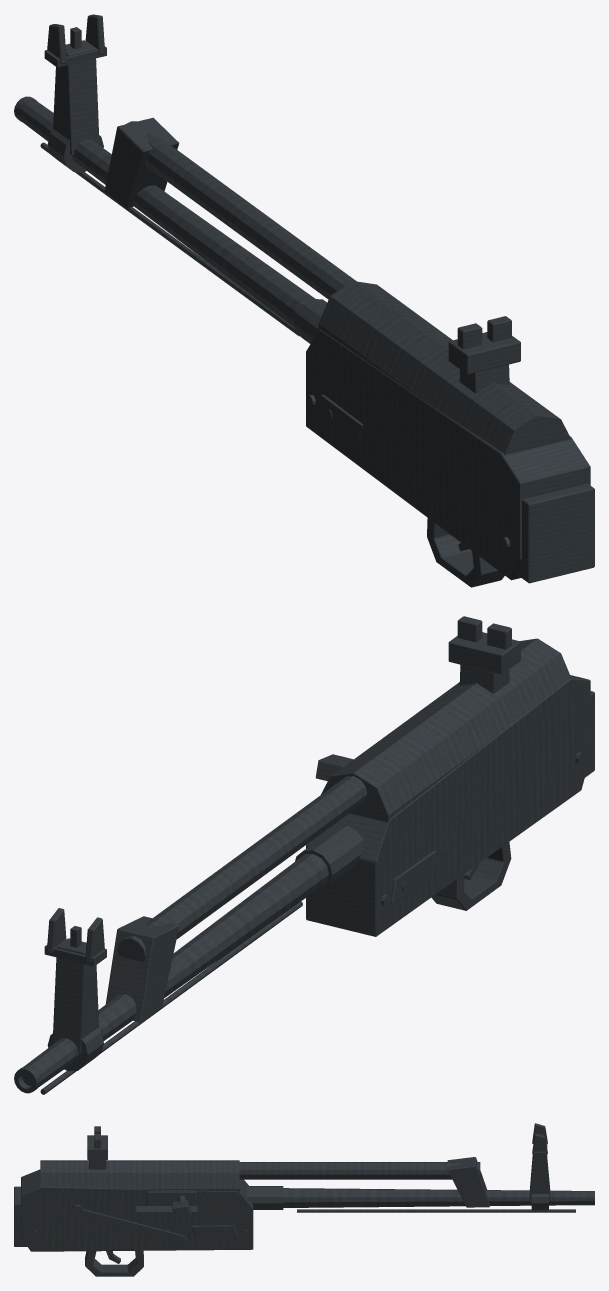
The model's file is weapon_ak103.glb.
3 renders of one model, top to bottom at view 1: azimuth 30°, elevation 25°; view 2: azimuth 150°, elevation 25°; view 3: azimuth 270°, elevation 25°, orthographic. The views are drawn at different scales.
Visible parts, largest first — view 1: body_LOD0; view 2: body_LOD0; view 3: body_LOD0, action_LOD0.
Part boxes in pixels (x1=…): body_LOD0: x1=14, y1=14, x2=594, y2=587; body_LOD0: x1=14, y1=616, x2=594, y2=1094; body_LOD0: x1=14, y1=1123, x2=594, y2=1276; action_LOD0: x1=146, y1=1191, x2=196, y2=1214.
Size of what is drawn, in the model's own units: 0.1398 by 0.2907 by 1.06.
1 material, 1 textured.
